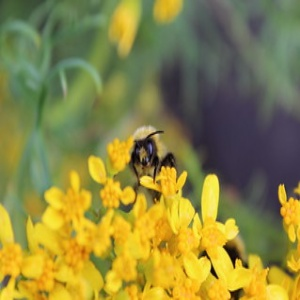bee: (128, 125, 178, 197)
